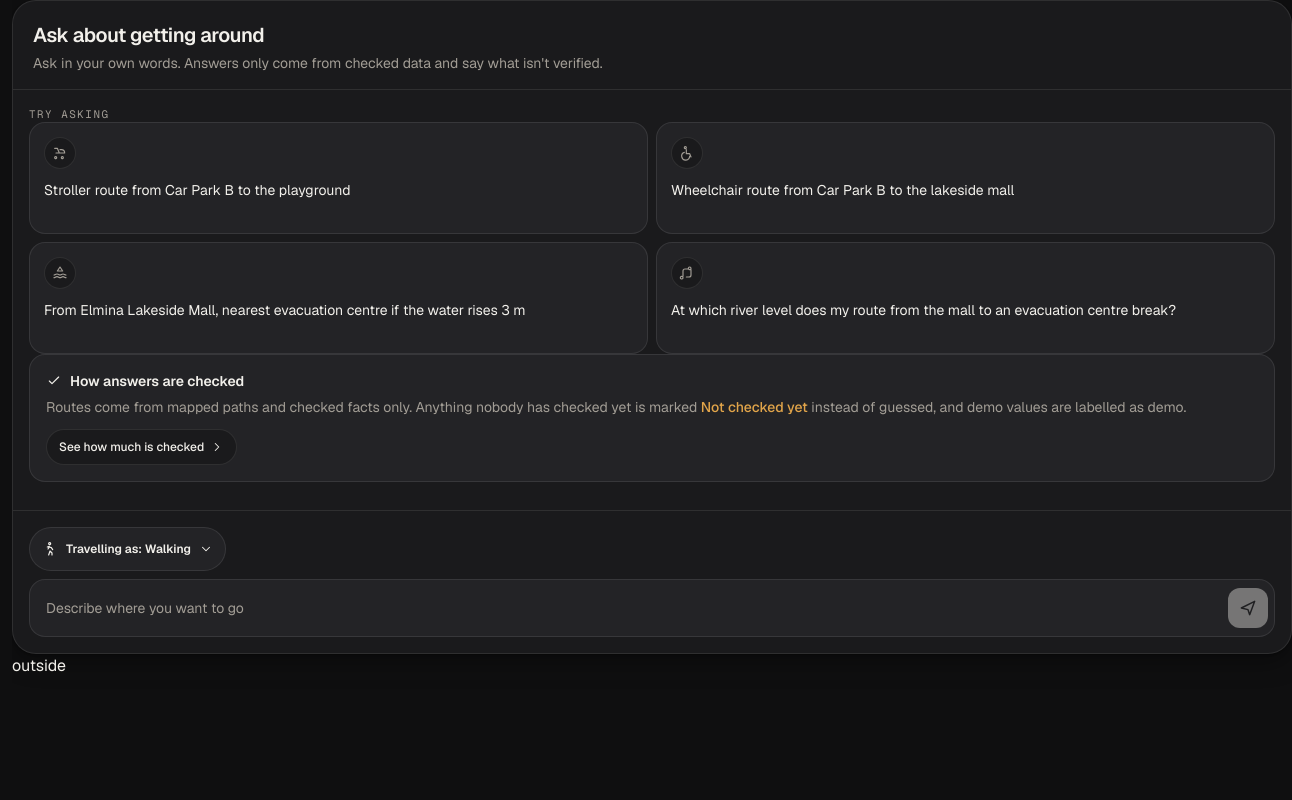
Test: AssistantPanel › Travelling-as keyboard pattern › Escape closes and returns focus to the chip
The image size is (1292, 800).
Click the button "Travelling as: Walking" at (128, 549), box [29,527,226,571]
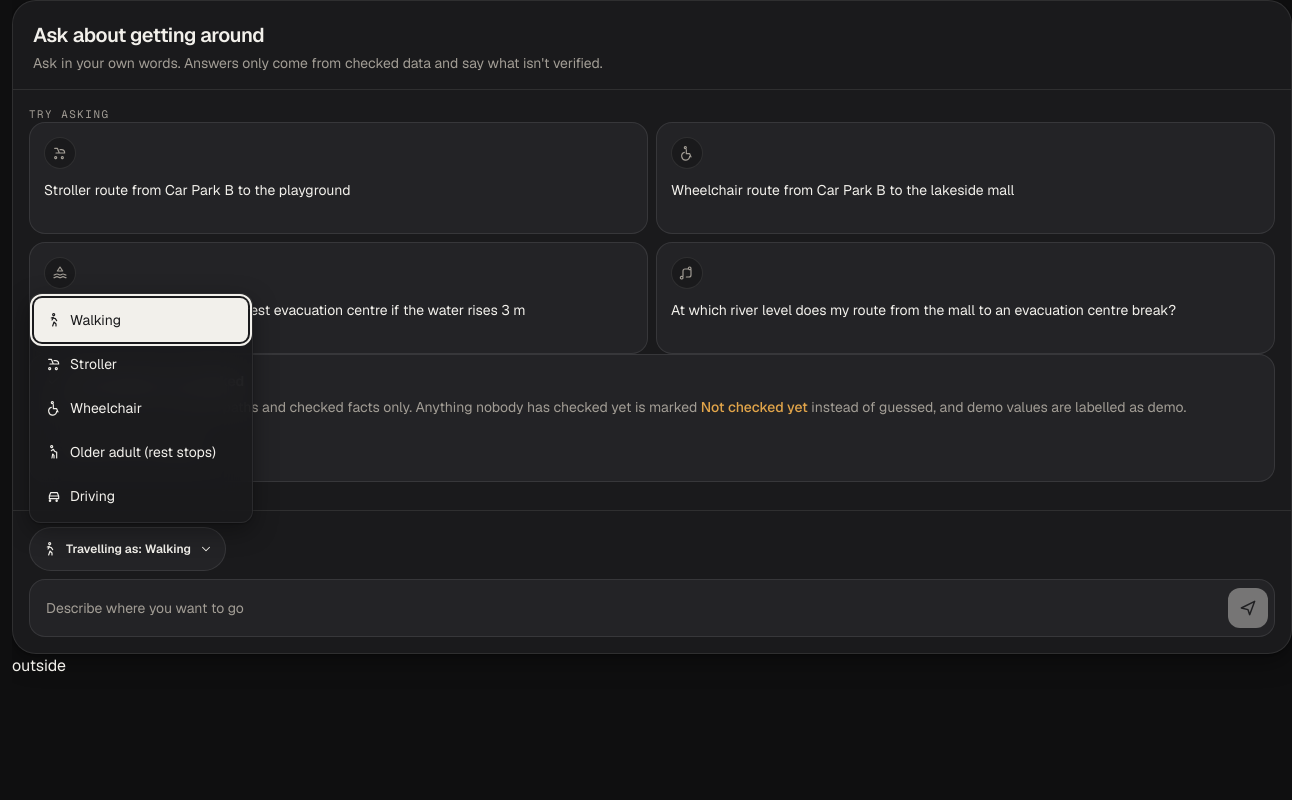
Press Escape in the option "Walking", box [34,298,248,342]
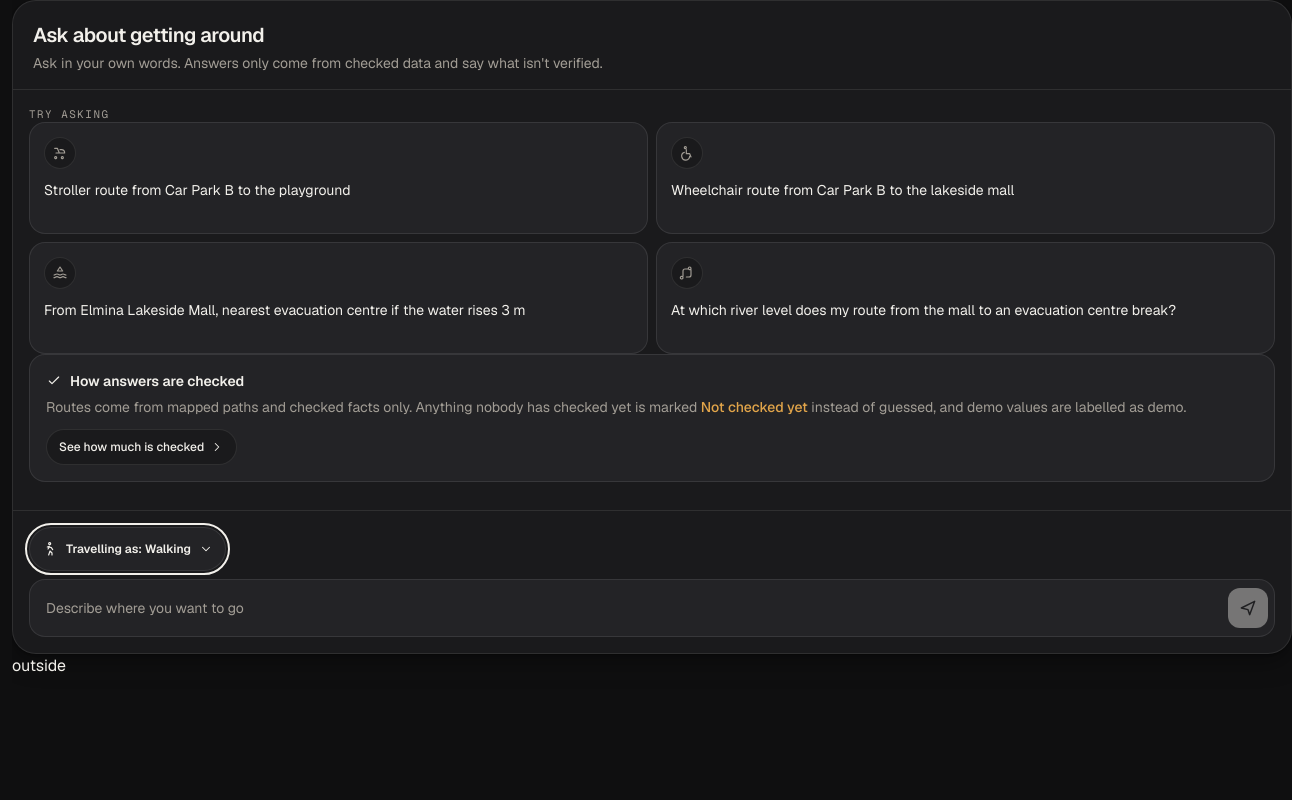
Check: the list "Walking Stroller Wheelchair Older adult (rest stops) Driving" is gone
